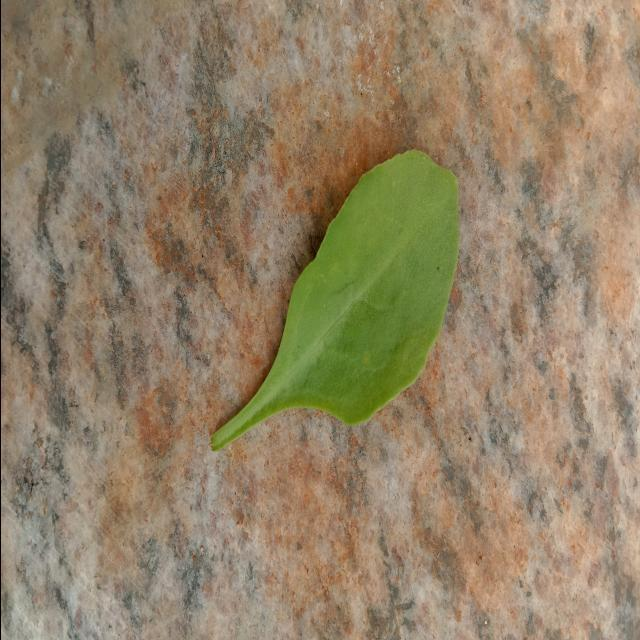leaf: (208, 147, 460, 452)
